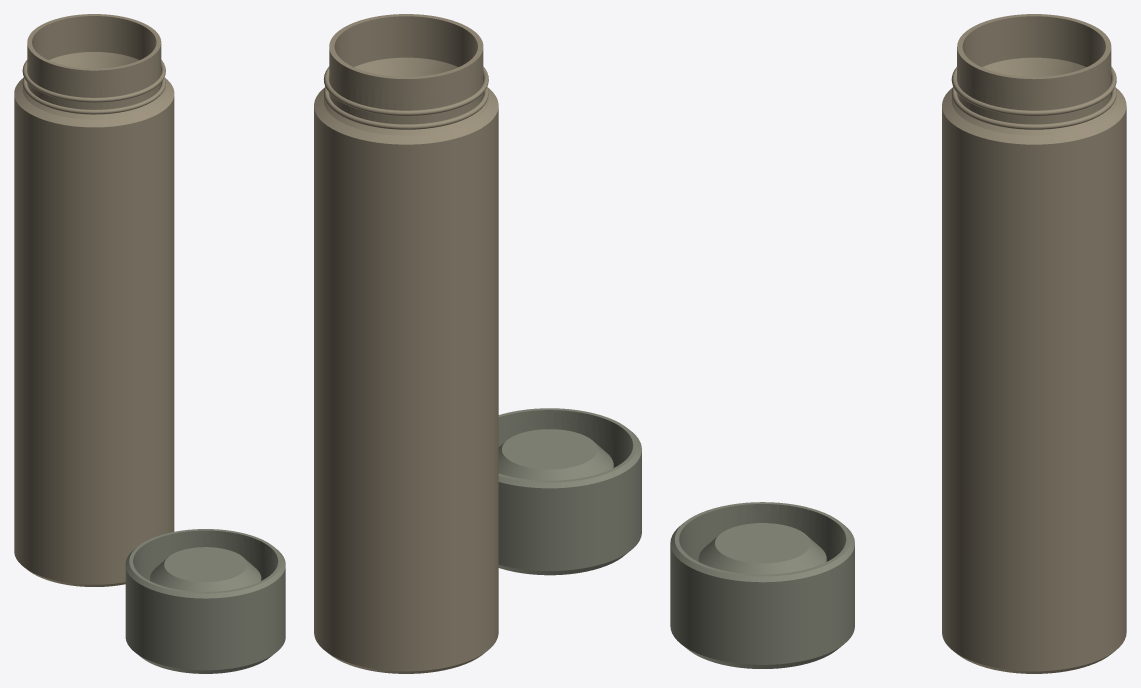
File: thermos__c85ee7b8828b.glb
The picture shows the model from 3 angles, left to right: view 1: azimuth 30°, elevation 25°; view 2: azimuth 150°, elevation 25°; view 3: azimuth 270°, elevation 25°; orthographic projection. The views are drawn at different scales.
Parts seen in each view (by area): view 1: body, cap_cup; view 2: body, cap_cup; view 3: body, cap_cup.
Boxes of the visible parts, x1,y1,x2,y2 form: body: (14, 14, 174, 586); cap_cup: (125, 529, 285, 673); body: (314, 14, 498, 673); cap_cup: (498, 408, 641, 575); body: (942, 14, 1126, 673); cap_cup: (670, 502, 854, 668).
Bounding box in the file's own units: 0.089 × 0.3001 × 0.21.
